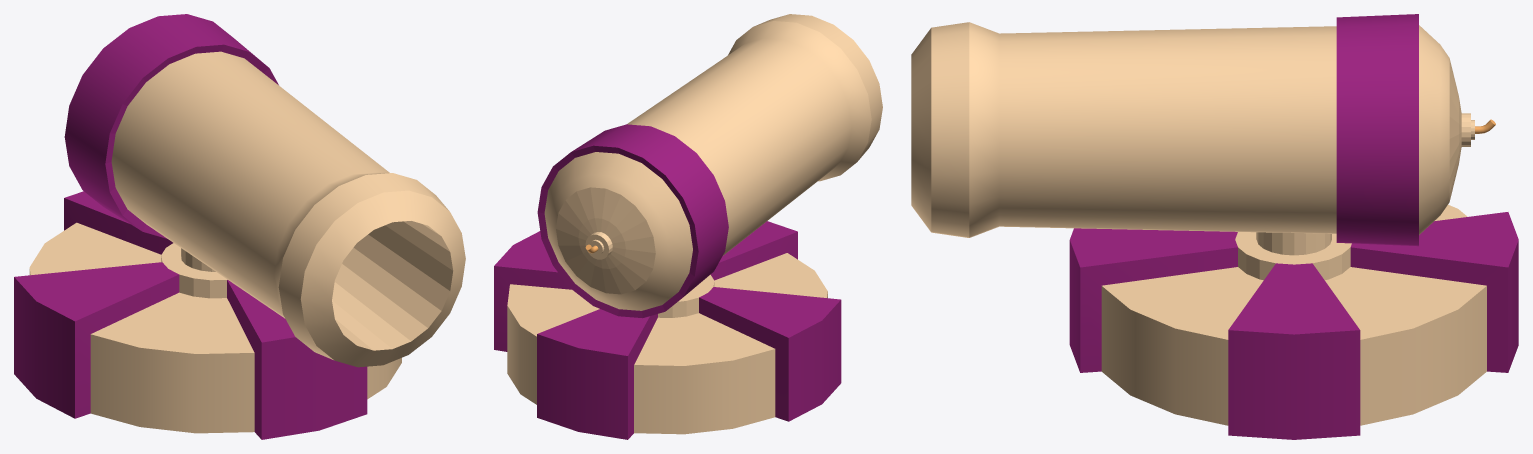
The model's file is Cannon_3.fbx.
3 views of the same model, side by side, from view 1: azimuth 30°, elevation 25°; view 2: azimuth 150°, elevation 25°; view 3: azimuth 270°, elevation 25° (orthographic). The views are drawn at different scales.
Visible parts, largest first — view 1: Cannon, Base; view 2: Cannon, Base; view 3: Cannon, Base.
Part boxes in pixels (box(x1,y1,x2,y2)): Cannon: box(64, 14, 465, 367); Base: box(14, 191, 401, 439); Cannon: box(537, 14, 882, 318); Base: box(494, 221, 841, 439); Cannon: box(911, 14, 1495, 246); Base: box(1069, 204, 1518, 439).
Size of the model in its own units: 2.08 by 1.64 by 2.82.
